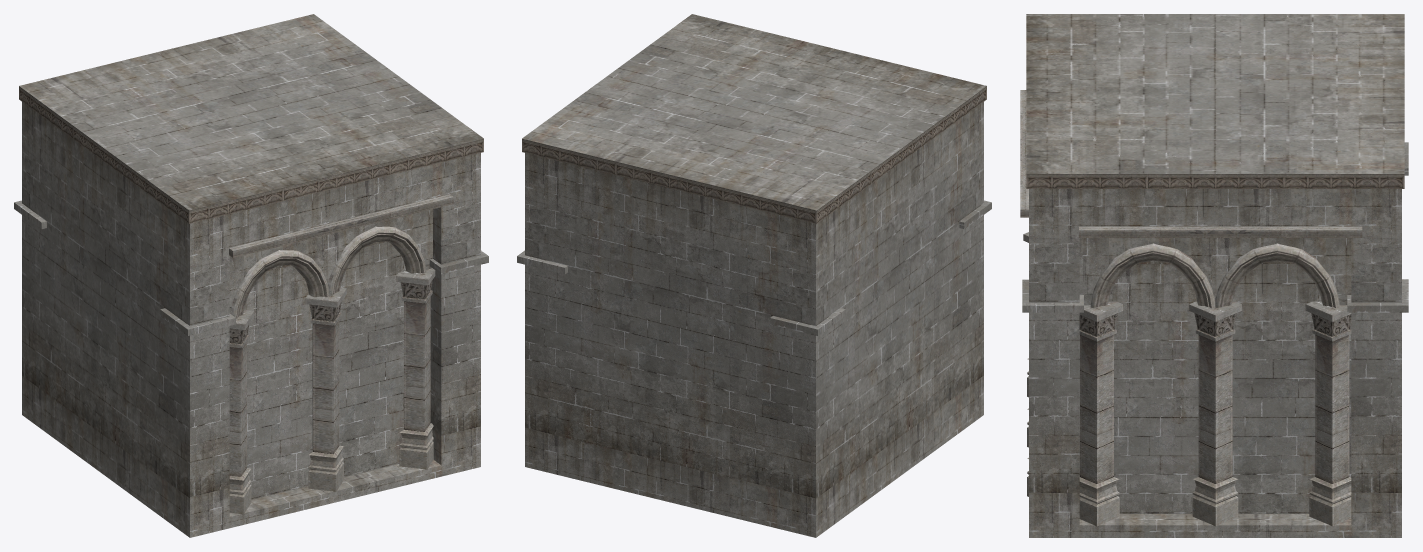
File: bg_lut_lucastle_churchtower07_sm_ksh.FBX
3 renders of one model, left to right at view 1: azimuth 30°, elevation 25°; view 2: azimuth 150°, elevation 25°; view 3: azimuth 270°, elevation 25°, orthographic. The views are drawn at different scales.
Visible parts, largest first — view 1: bg_lut_lucastle_churchtower07_sm_ksh; view 2: bg_lut_lucastle_churchtower07_sm_ksh; view 3: bg_lut_lucastle_churchtower07_sm_ksh.
Boxes of the visible parts, x1=… form: bg_lut_lucastle_churchtower07_sm_ksh: x1=14, y1=14, x2=488, y2=537; bg_lut_lucastle_churchtower07_sm_ksh: x1=517, y1=14, x2=991, y2=537; bg_lut_lucastle_churchtower07_sm_ksh: x1=1020, y1=14, x2=1408, y2=537.
Bounding box in the file's own units: 358 × 372 × 358.
